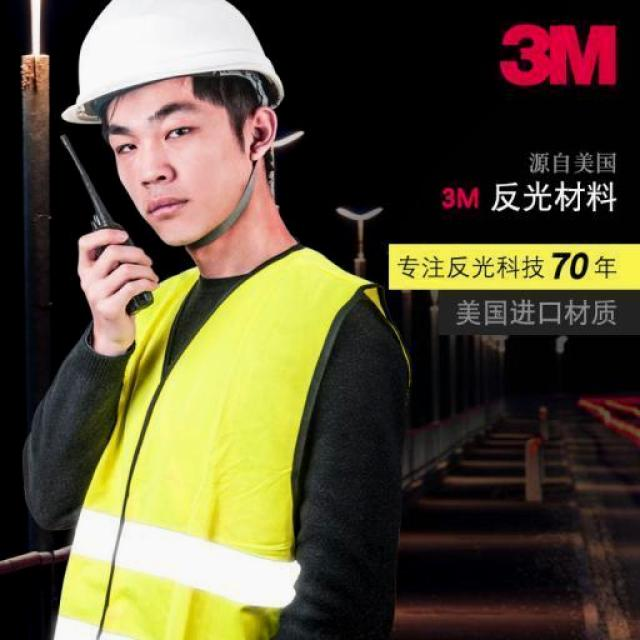face_nomask: (107, 113, 216, 231)
hand_noglove: (64, 222, 167, 342)
head_helmet: (50, 0, 308, 125)
person: (11, 0, 423, 640)
vest: (30, 234, 369, 638)
